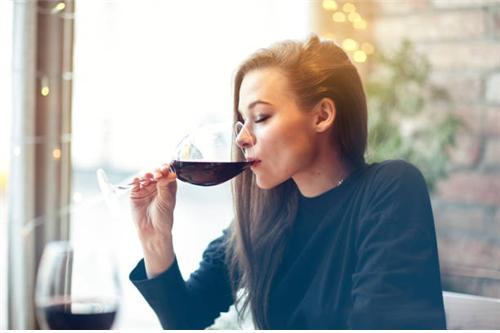alcohol: (93, 114, 261, 210)
